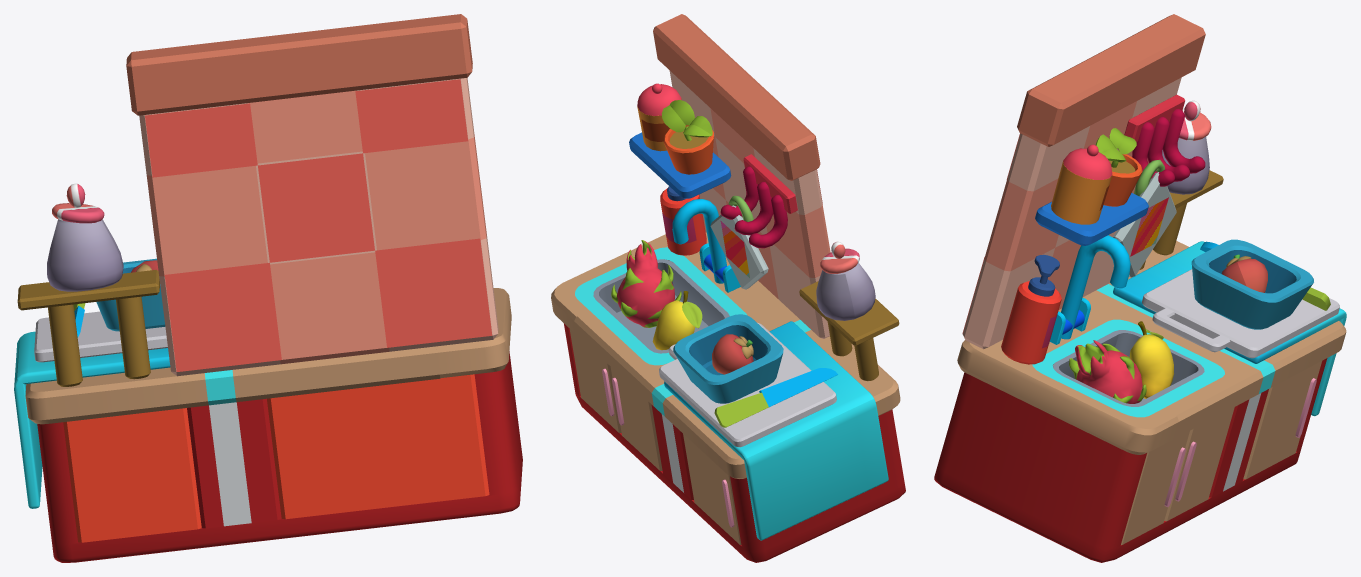
Rendered from lvl_7.fbx.
3 views of the same model, side by side, from view 1: azimuth 30°, elevation 25°; view 2: azimuth 150°, elevation 25°; view 3: azimuth 270°, elevation 25° (orthographic). The views are drawn at different scales.
Visible parts, largest first — view 1: Board_Kitchenware_0, Board_Kitchenware_23, Board_Kitchenware_1, Board_Kitchenware_28, Board_Kitchenware_39, Board_Kitchenware_26, Board_Kitchenware_21, Board_Kitchenware_3, Board_Kitchenware_4, Board_Kitchenware_22, Board_Kitchenware_31, Board_Kitchenware_25 (+5 smaller); view 2: Board_Kitchenware_29, Board_Kitchenware_1, Board_Kitchenware_0, Board_Kitchenware_39, Board_Kitchenware_5, Board_Kitchenware_2, Board_Kitchenware_11, Board_Kitchenware_25, Board_Kitchenware_4, Board_Kitchenware_21, Board_Kitchenware_16, Board_Kitchenware_3 (+22 smaller); view 3: Board_Kitchenware_22, Board_Kitchenware_0, Board_Kitchenware_1, Board_Kitchenware_32, Board_Kitchenware_39, Board_Kitchenware_5, Board_Kitchenware_2, Board_Kitchenware_21, Board_Kitchenware_27, Board_Kitchenware_7, Board_Kitchenware_9, Board_Kitchenware_24 (+21 smaller).
Boxes of the visible parts, bbox=[...] form: Board_Kitchenware_0: bbox=[139, 78, 498, 376]; Board_Kitchenware_23: bbox=[267, 374, 489, 519]; Board_Kitchenware_1: bbox=[126, 14, 472, 115]; Board_Kitchenware_28: bbox=[63, 408, 201, 542]; Board_Kitchenware_39: bbox=[25, 360, 317, 424]; Board_Kitchenware_26: bbox=[187, 398, 281, 528]; Board_Kitchenware_21: bbox=[52, 446, 522, 562]; Board_Kitchenware_3: bbox=[17, 269, 159, 386]; Board_Kitchenware_4: bbox=[47, 183, 123, 291]; Board_Kitchenware_22: bbox=[474, 351, 521, 495]; Board_Kitchenware_31: bbox=[313, 346, 440, 392]; Board_Kitchenware_25: bbox=[37, 422, 78, 544]; Board_Kitchenware_29: bbox=[744, 399, 888, 540]; Board_Kitchenware_1: bbox=[653, 14, 820, 180]; Board_Kitchenware_0: bbox=[669, 71, 830, 338]; Board_Kitchenware_39: bbox=[621, 290, 900, 478]; Board_Kitchenware_5: bbox=[673, 314, 783, 403]; Board_Kitchenware_2: bbox=[659, 322, 836, 447]; Board_Kitchenware_11: bbox=[664, 321, 873, 459]; Board_Kitchenware_25: bbox=[730, 409, 904, 552]; Board_Kitchenware_4: bbox=[816, 241, 875, 320]; Board_Kitchenware_21: bbox=[574, 387, 905, 562]; Board_Kitchenware_16: bbox=[611, 240, 681, 327]; Board_Kitchenware_3: bbox=[799, 281, 899, 381]; Board_Kitchenware_22: bbox=[937, 372, 1146, 548]; Board_Kitchenware_0: bbox=[962, 77, 1181, 349]; Board_Kitchenware_1: bbox=[1017, 14, 1205, 146]; Board_Kitchenware_32: bbox=[957, 340, 1178, 454]; Board_Kitchenware_39: bbox=[1082, 241, 1346, 411]; Board_Kitchenware_5: bbox=[1191, 239, 1313, 329]; Board_Kitchenware_2: bbox=[1142, 269, 1339, 358]; Board_Kitchenware_21: bbox=[934, 450, 1300, 562]; Board_Kitchenware_27: bbox=[1243, 361, 1321, 479]; Board_Kitchenware_7: bbox=[1001, 254, 1061, 364]; Board_Kitchenware_9: bbox=[1051, 144, 1112, 224]; Board_Kitchenware_24: bbox=[1121, 431, 1189, 544].
Size of the model in its own units: 16.05 by 17.78 by 13.94.
